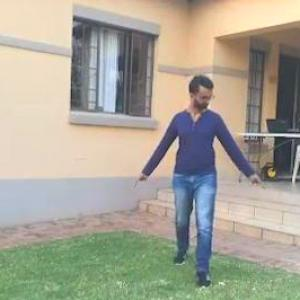land: (133, 68, 264, 282)
